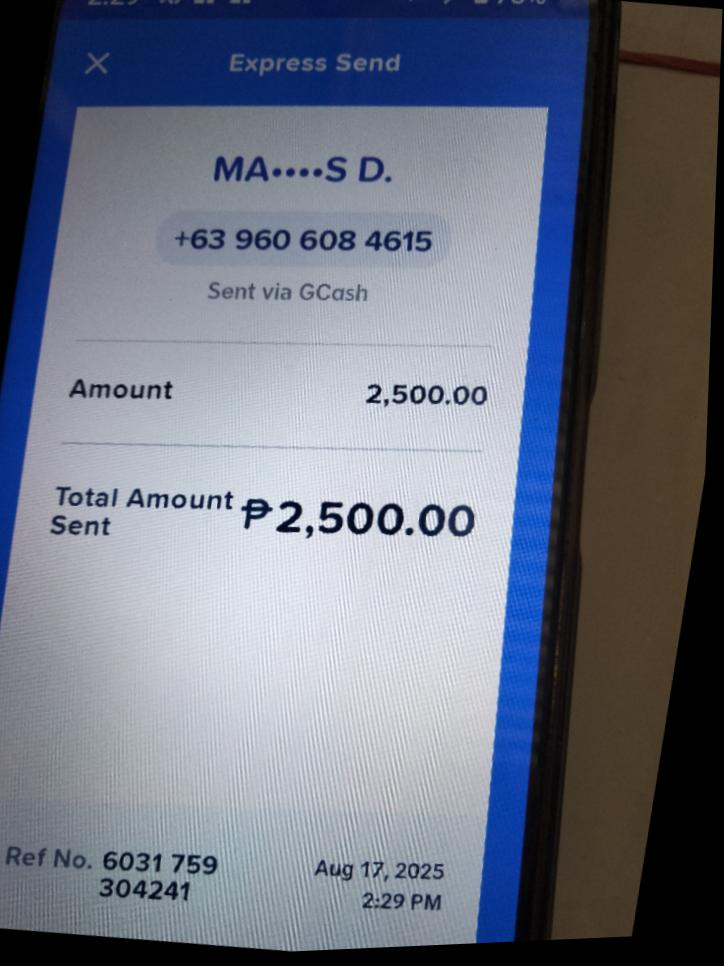Receipt: (0, 21, 594, 951)
